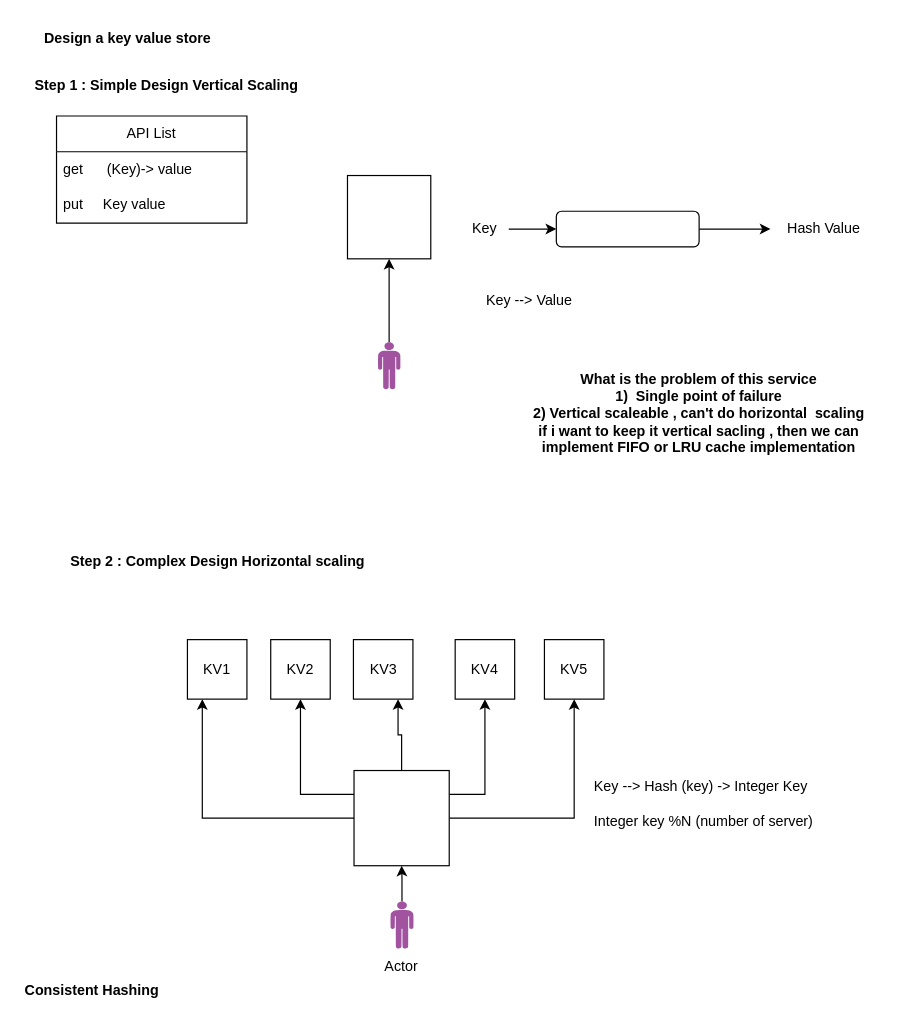
Image size: 909x1028. Some labels were removed from this diagram. Here are the shapes that lost their labels. From the top down, the centre of each, then its label:
At (x=388, y=216): "Application".
At (x=627, y=228): "Hash Function".
At (x=401, y=817): "Application Server".
